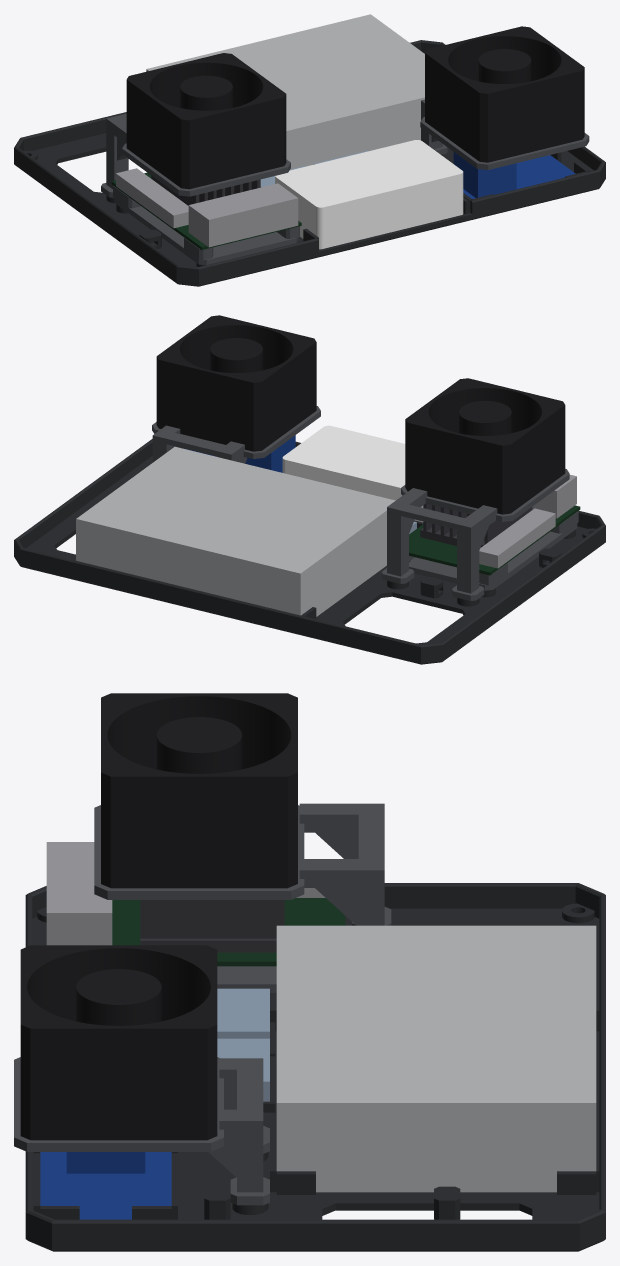
Rendered from controller_bench_preview.glb.
3 views of the same model, one above another, from view 1: azimuth 30°, elevation 25°; view 2: azimuth 150°, elevation 25°; view 3: azimuth 270°, elevation 25° (orthographic). The views are drawn at different scales.
Parts seen in each view (by area): view 1: psu_12v, fan_1_over_opi, fan_2_over_buck, base_plate, switch_tplink_ls1005, orangepi5ultra_ports_front, opi_tray, buck_12v_to_5v, fan_bracket_opi, orangepi5ultra_ports_side, fan_bracket_buck, orangepi5ultra_heatsink (+1 smaller); view 2: psu_12v, base_plate, fan_2_over_buck, fan_1_over_opi, fan_bracket_opi, switch_tplink_ls1005, fan_bracket_buck, opi_tray, orangepi5ultra_ports_side, orangepi5ultra_pcb, orangepi5ultra_heatsink, orangepi5ultra_ports_front (+1 smaller); view 3: psu_12v, base_plate, fan_2_over_buck, fan_1_over_opi, fan_bracket_opi, fan_bracket_buck, buck_12v_to_5v, orangepi5ultra_heatsink, orangepi5ultra_ports_front, orangepi5ultra_pcb, wago_221_1, wago_221_2 (+1 smaller).
Boxes of the visible parts, x1,y1,x2,y2 form: psu_12v: (146,14,424,169); fan_1_over_opi: (126,53,286,189); fan_2_over_buck: (425,26,584,162); base_plate: (14,40,605,286); switch_tplink_ls1005: (275,140,463,249); orangepi5ultra_ports_front: (188,183,298,247); opi_tray: (113,185,299,265); buck_12v_to_5v: (453,152,575,198); fan_bracket_opi: (101,113,290,197); orangepi5ultra_ports_side: (116,168,188,228); fan_bracket_buck: (420,99,589,169); orangepi5ultra_heatsink: (151,175,260,205); psu_12v: (76,446,395,616); base_plate: (14,439,605,664); fan_2_over_buck: (156,315,316,451); fan_1_over_opi: (405,378,565,514); fan_bracket_opi: (381,469,569,600); switch_tplink_ls1005: (282,425,423,522); fan_bracket_buck: (152,406,320,463); opi_tray: (409,511,578,590); orangepi5ultra_ports_side: (479,508,555,568); orangepi5ultra_pcb: (409,505,580,575); orangepi5ultra_heatsink: (420,503,532,547); orangepi5ultra_ports_front: (532,474,576,518); psu_12v: (276,925,596,1192); base_plate: (25,883,605,1251); fan_2_over_buck: (20,945,217,1140); fan_1_over_opi: (101,693,297,888); fan_bracket_opi: (94,803,391,925); fan_bracket_buck: (14,1057,269,1205); buck_12v_to_5v: (40,1152,171,1219); orangepi5ultra_heatsink: (140,900,284,952); orangepi5ultra_ports_front: (46,842,112,945); orangepi5ultra_pcb: (112,898,345,966); wago_221_1: (217,988,269,1038); wago_221_2: (217,1038,269,1101).
Size of the model in its own units: 245 by 79.9 by 180.
